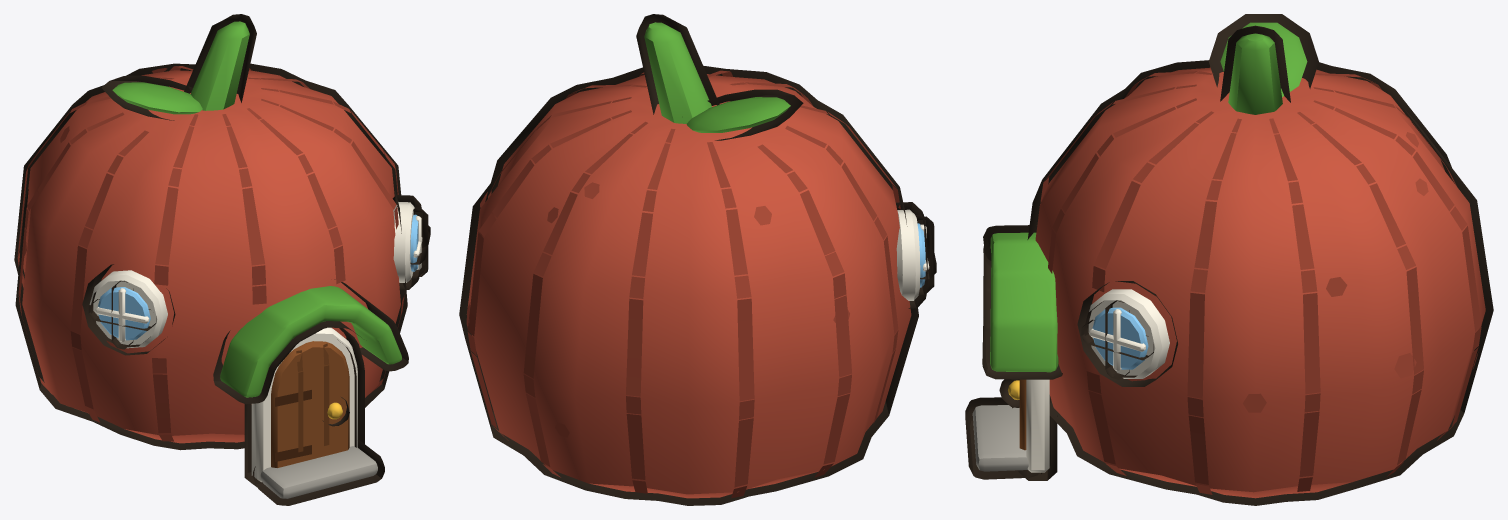
File: house-7.glb
3 views of the same model, side by side, from view 1: azimuth 30°, elevation 25°; view 2: azimuth 150°, elevation 25°; view 3: azimuth 270°, elevation 25° (orthographic). The views are drawn at different scales.
Parts seen in each view (by area): view 1: house-7; view 2: house-7; view 3: house-7.
Boxes of the visible parts, x1,y1,x2,y2 form: house-7: (14,14,430,505); house-7: (459,14,936,505); house-7: (965,14,1493,505).
Bounding box in the file's own units: 2.83 × 2.89 × 3.16.
